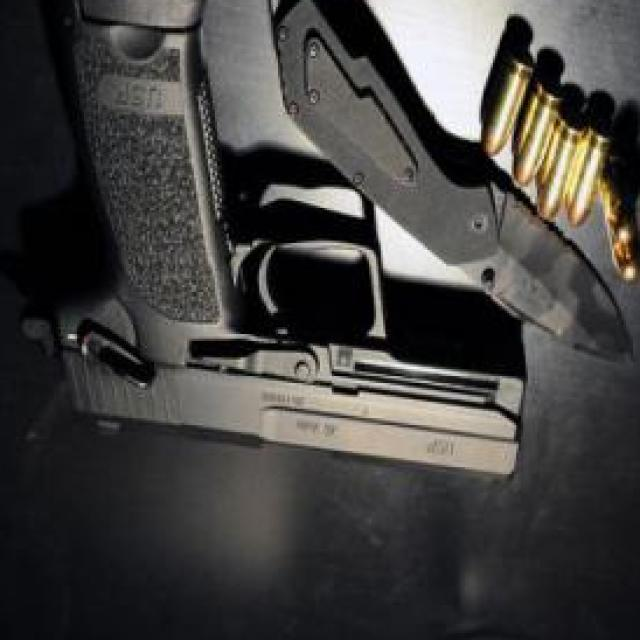pistol: (21, 0, 521, 488)
